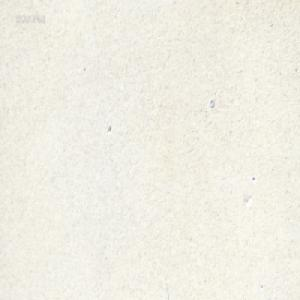Washer: (209, 97, 215, 108)
